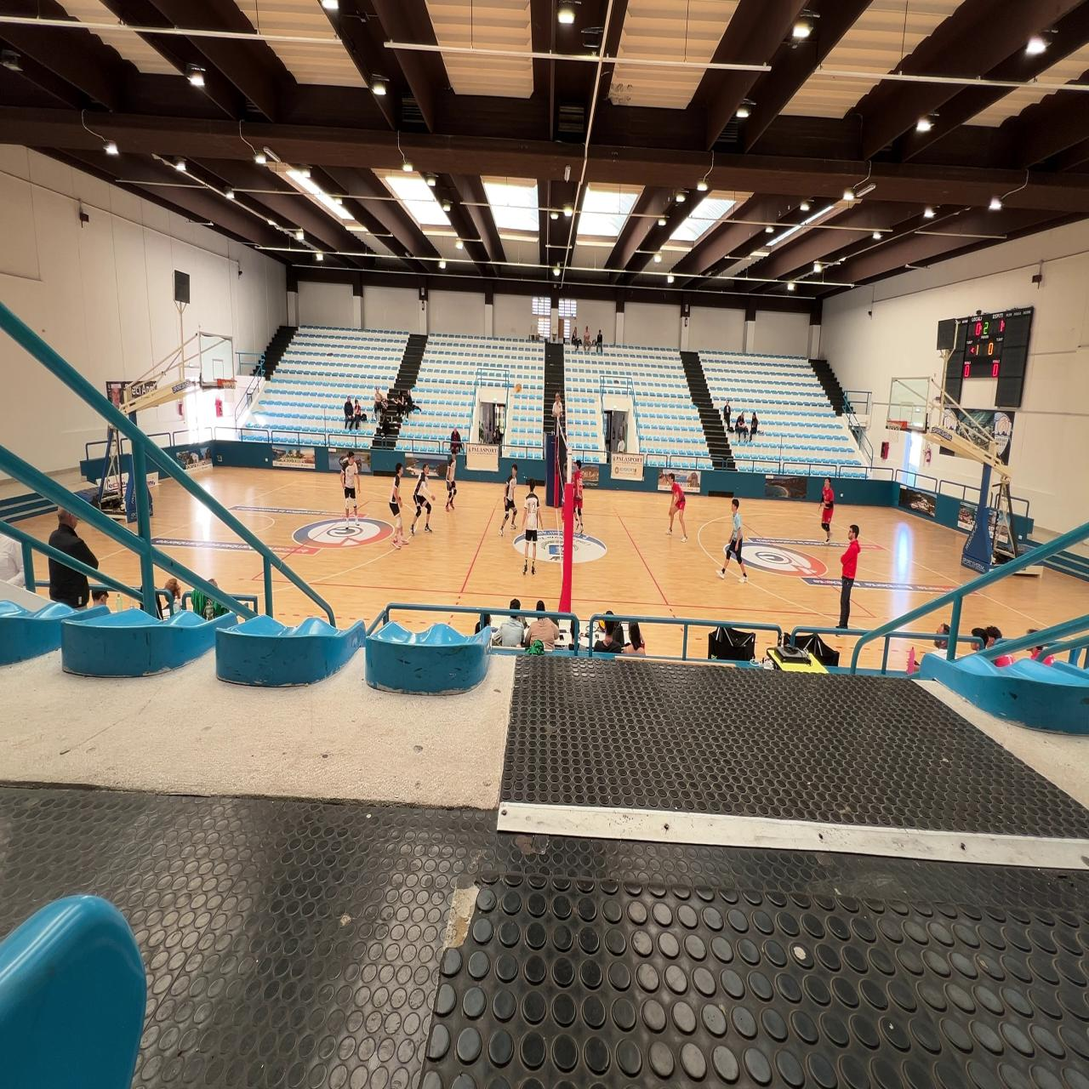ball: (515, 383, 521, 395)
